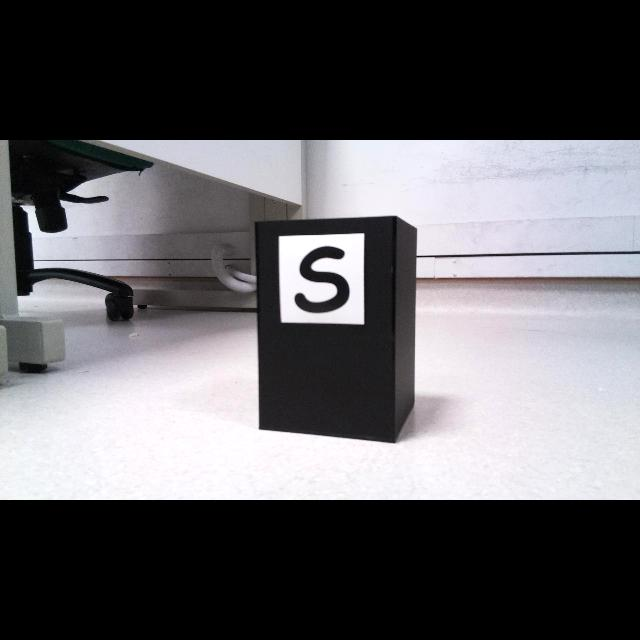S: (293, 246, 350, 315)
